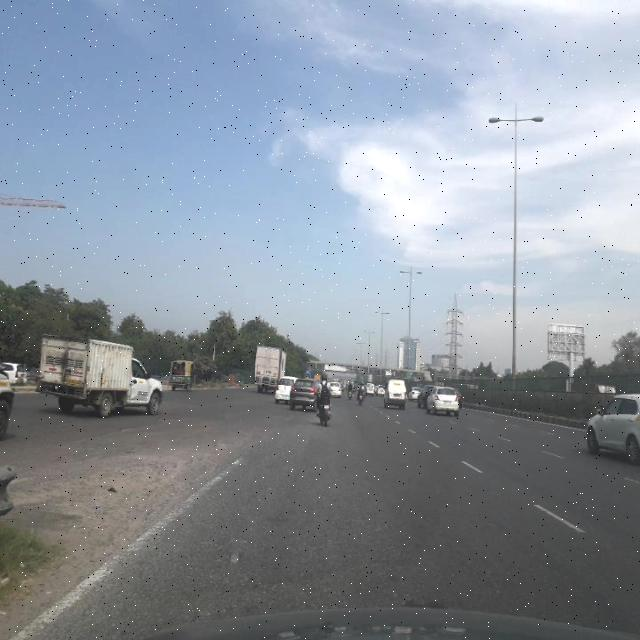D40: (44, 444, 226, 527)
D44: (38, 454, 243, 630)
